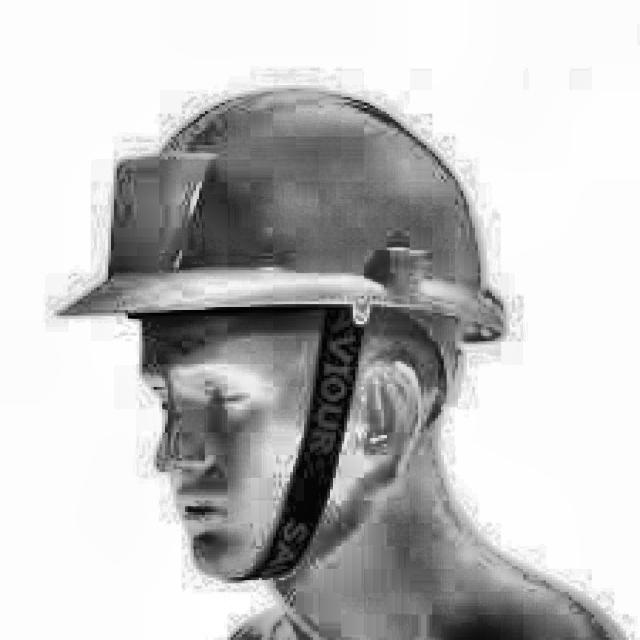Helmet: (79, 71, 518, 605)
